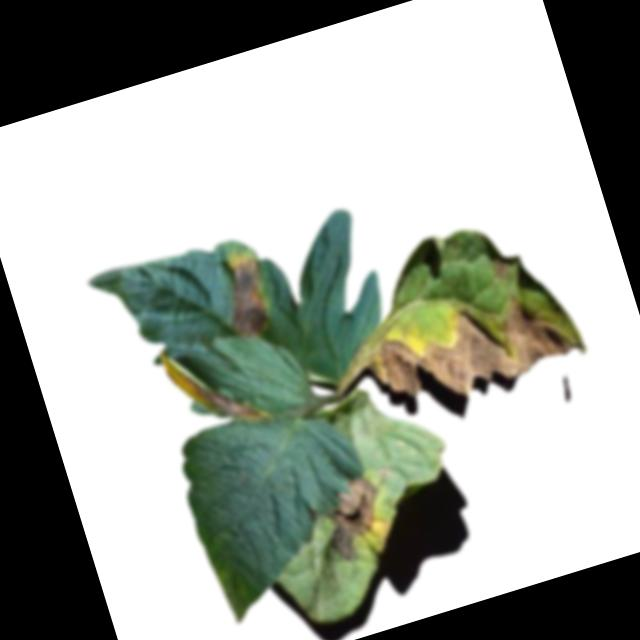Early_blight: (360, 274, 599, 419), (165, 335, 265, 437), (305, 472, 392, 568), (213, 249, 281, 340), (487, 254, 514, 282)
